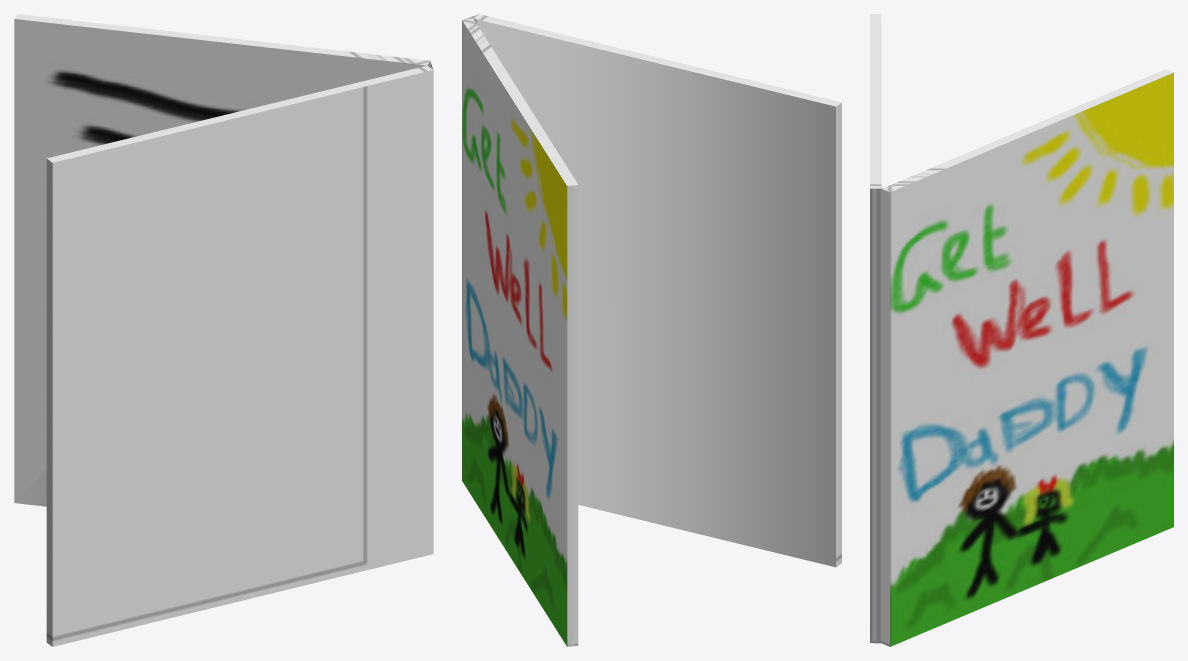
The model's file is Card.fbx.
3 views of the same model, side by side, from view 1: azimuth 30°, elevation 25°; view 2: azimuth 150°, elevation 25°; view 3: azimuth 270°, elevation 25° (orthographic). The views are drawn at different scales.
Parts seen in each view (by area): view 1: Card; view 2: Card; view 3: Card.
Part boxes in pixels (x1=…): Card: x1=14, y1=14, x2=433, y2=646; Card: x1=462, y1=14, x2=841, y2=646; Card: x1=870, y1=14, x2=1173, y2=646.
Size of the model in its own units: 20.99 by 25.03 by 15.15.
